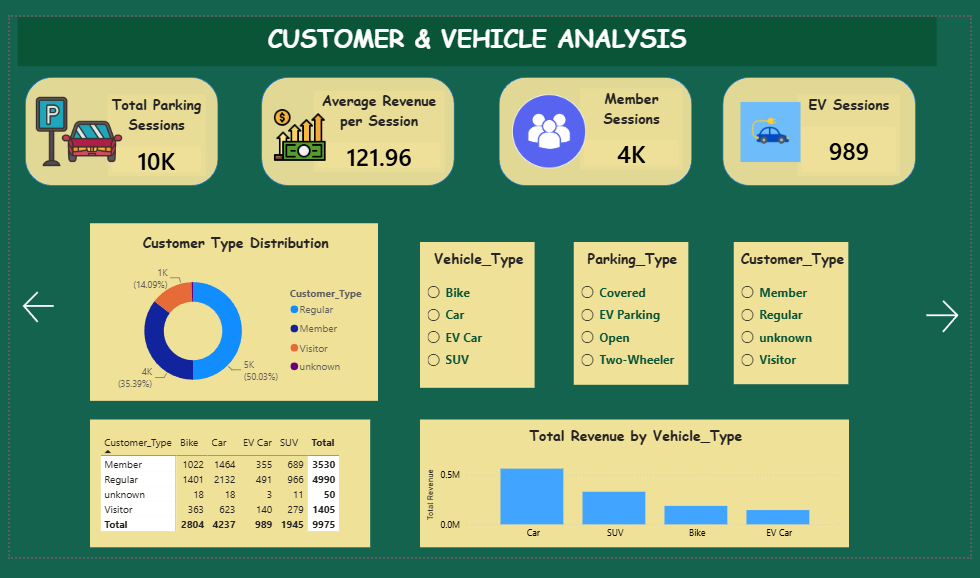

This screenshot's page, from the dashboard's own definition file:
{"tool":"powerbi","page":{"name":"Customer","canvas":[1280,720],"ordinal":3},"visuals":[{"type":"textbox","box":[10,0,1225.7,65.7],"z":0},{"type":"shape","box":[20,80,257.8,145.2],"z":1000},{"type":"cardVisual","title":"Total Parking Sessions","fields":{"Data":["Smartparking analysis.Total Parking Sessions"]},"box":[130,102.9,130.8,108.8],"z":2000},{"type":"image","box":[20,95.7,143.7,115.6],"z":3000},{"type":"shape","box":[334.3,80,257.8,145.2],"z":4000},{"type":"cardVisual","title":"Average Revenue per Session","fields":{"Data":["Smartparking analysis.Average Revenue per Session"]},"box":[404.3,98.6,174.3,108.6],"z":5000},{"type":"shape","box":[651.4,80,257.8,145.2],"z":6000},{"type":"cardVisual","title":"Member Sessions","fields":{"Data":["Smartparking analysis.Member Sessions"]},"box":[760,95.7,137.1,108.6],"z":7000},{"type":"shape","box":[950,80,257.8,145.2],"z":8000},{"type":"cardVisual","title":"EV Sessions","fields":{"Data":["Smartparking analysis.EV Sessions"]},"box":[1050,102.9,137.1,108.6],"z":9000},{"type":"image","box":[348.6,121.4,75.7,71.4],"z":10000},{"type":"image","box":[640,102.9,157.1,98.6],"z":11000},{"type":"image","box":[950,112.9,128.6,80],"z":12000},{"type":"donutChart","title":"Customer Type Distribution","fields":{"Y":["Smartparking analysis.Total Parking Sessions"],"Category":["Smartparking analysis.Customer_Type"]},"box":[106.7,275,384.3,237.1],"z":13000},{"type":"pivotTable","title":"Parking Demand by Hour","fields":{"Values":["Smartparking analysis.Total Parking Sessions"],"Rows":["Smartparking analysis.Customer_Type"],"Columns":["Smartparking analysis.Vehicle_Type"]},"box":[141.7,536.7,350,170],"z":14000},{"type":"listSlicer","fields":{"Values":["Smartparking analysis.Parking_Type"]},"box":[751.7,300,152.9,190],"z":15000},{"type":"listSlicer","fields":{"Values":["Smartparking analysis.Vehicle_Type"]},"box":[546.7,300,152.6,194.1],"z":16000},{"type":"listSlicer","fields":{"Values":["Smartparking analysis.Customer_Type"]},"box":[965,300,152.6,189.7],"z":17000},{"type":"columnChart","fields":{"Y":["Smartparking analysis.Total Revenue"],"Category":["Smartparking analysis.Vehicle_Type"]},"box":[601.7,536.7,453.3,170],"z":18000},{"type":"actionButton","box":[1215,371.7,65,55],"z":18001},{"type":"actionButton","box":[11.7,360,111.7,53.3],"z":18002}]}

Visuals, with their boxes on the page's 1280x720 design canvas (x1, y1, x2, y2). These are canvas units, not pixel positions in the 980x578 screenshot, which may show the page scaled, cropped or inside an application window:
textbox: bbox(10, 0, 1236, 66)
shape: bbox(20, 80, 278, 225)
"Total Parking Sessions" cardVisual: bbox(130, 103, 261, 212)
image: bbox(20, 96, 164, 211)
shape: bbox(334, 80, 592, 225)
"Average Revenue per Session" cardVisual: bbox(404, 99, 579, 207)
shape: bbox(651, 80, 909, 225)
"Member Sessions" cardVisual: bbox(760, 96, 897, 204)
shape: bbox(950, 80, 1208, 225)
"EV Sessions" cardVisual: bbox(1050, 103, 1187, 212)
image: bbox(349, 121, 424, 193)
image: bbox(640, 103, 797, 202)
image: bbox(950, 113, 1079, 193)
"Customer Type Distribution" donutChart: bbox(107, 275, 491, 512)
"Parking Demand by Hour" pivotTable: bbox(142, 537, 492, 707)
listSlicer - Smartparking analysis.Parking_Type: bbox(752, 300, 905, 490)
listSlicer - Smartparking analysis.Vehicle_Type: bbox(547, 300, 699, 494)
listSlicer - Smartparking analysis.Customer_Type: bbox(965, 300, 1118, 490)
columnChart - Smartparking analysis.Total Revenue x Smartparking analysis.Vehicle_Type: bbox(602, 537, 1055, 707)
actionButton: bbox(1215, 372, 1280, 427)
actionButton: bbox(12, 360, 123, 413)
